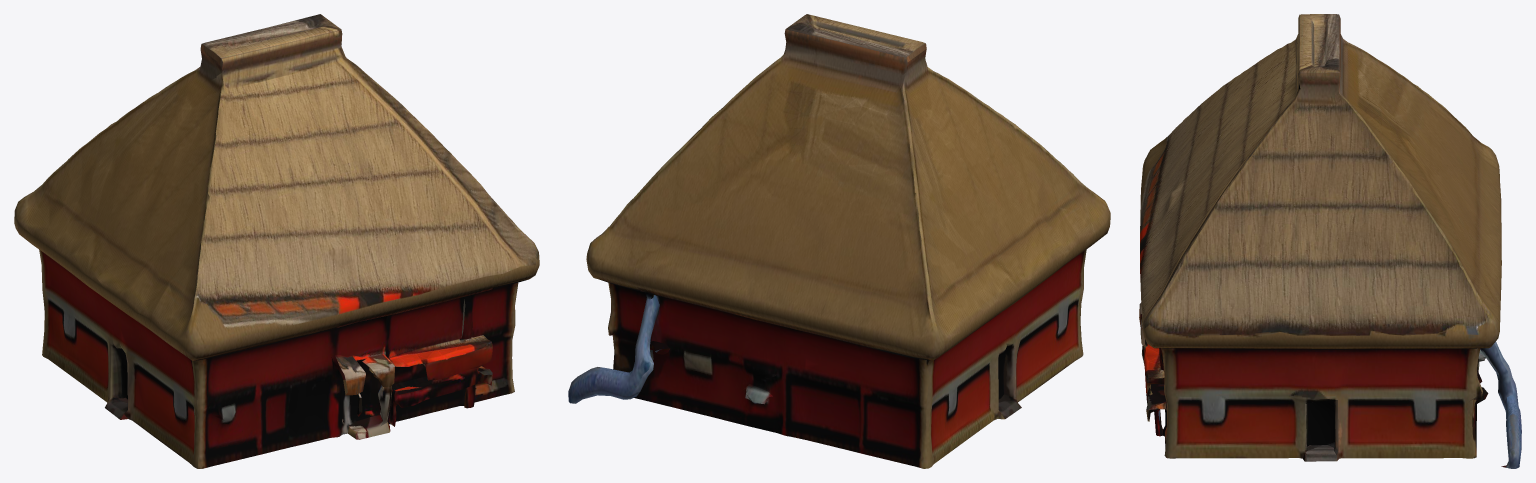
Rendered from guaranies_maravilla_monte.glb.
3 renders of one model, left to right at view 1: azimuth 30°, elevation 25°; view 2: azimuth 150°, elevation 25°; view 3: azimuth 270°, elevation 25°, orthographic.
Parts seen in each view (by area): view 1: geometry_0; view 2: geometry_0; view 3: geometry_0.
Boxes of the visible parts, x1,y1,x2,y2 form: geometry_0: [14, 14, 539, 468]; geometry_0: [568, 14, 1110, 468]; geometry_0: [1139, 14, 1521, 468].
Bounding box in the file's own units: 5.4 × 4.85 × 5.
1 material, 1 textured.
